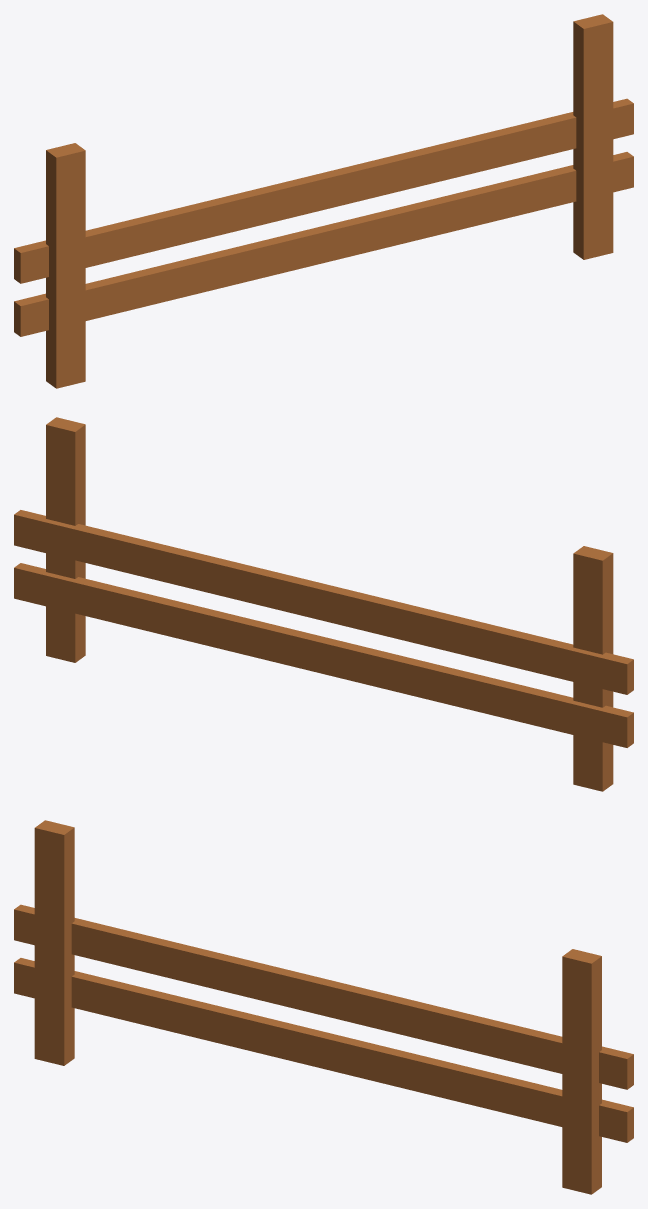
The model's file is fence_wood_path.fbx.
3 renders of one model, top to bottom at view 1: azimuth 30°, elevation 25°; view 2: azimuth 150°, elevation 25°; view 3: azimuth 330°, elevation 25°, orthographic.
Parts seen in each view (by area): view 1: fence_wood_path; view 2: fence_wood_path; view 3: fence_wood_path.
Part boxes in pixels (x1,y1,x2,y2): fence_wood_path: (14,14,633,388); fence_wood_path: (14,417,633,791); fence_wood_path: (14,820,633,1194).
Size of the model in its own units: 2.5 by 0.9 by 0.1.
